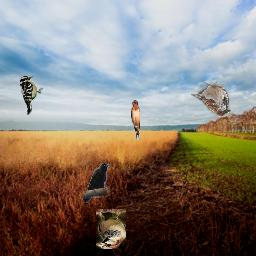Crow: (83, 163, 110, 203)
Sparrow: (191, 81, 231, 117), (96, 209, 126, 249)
Swallow: (131, 100, 140, 140)
Woodpecker: (19, 75, 43, 115)
